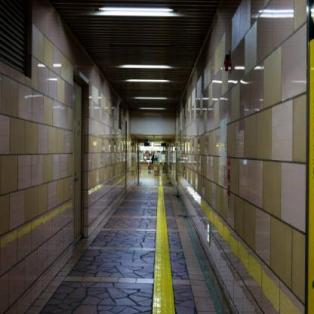Podoctatil: (136, 158, 179, 314)
